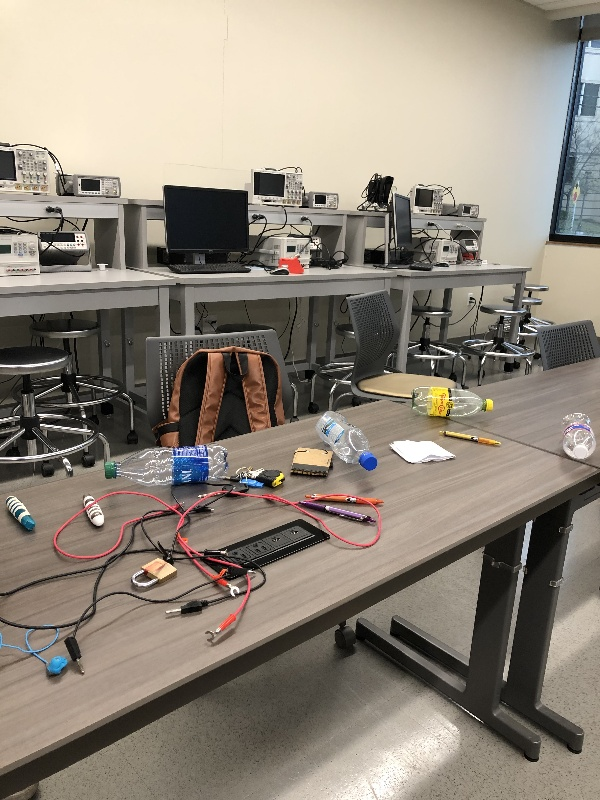bottle: (91, 442, 235, 492), (312, 408, 382, 478), (409, 382, 499, 424), (560, 408, 595, 467)
